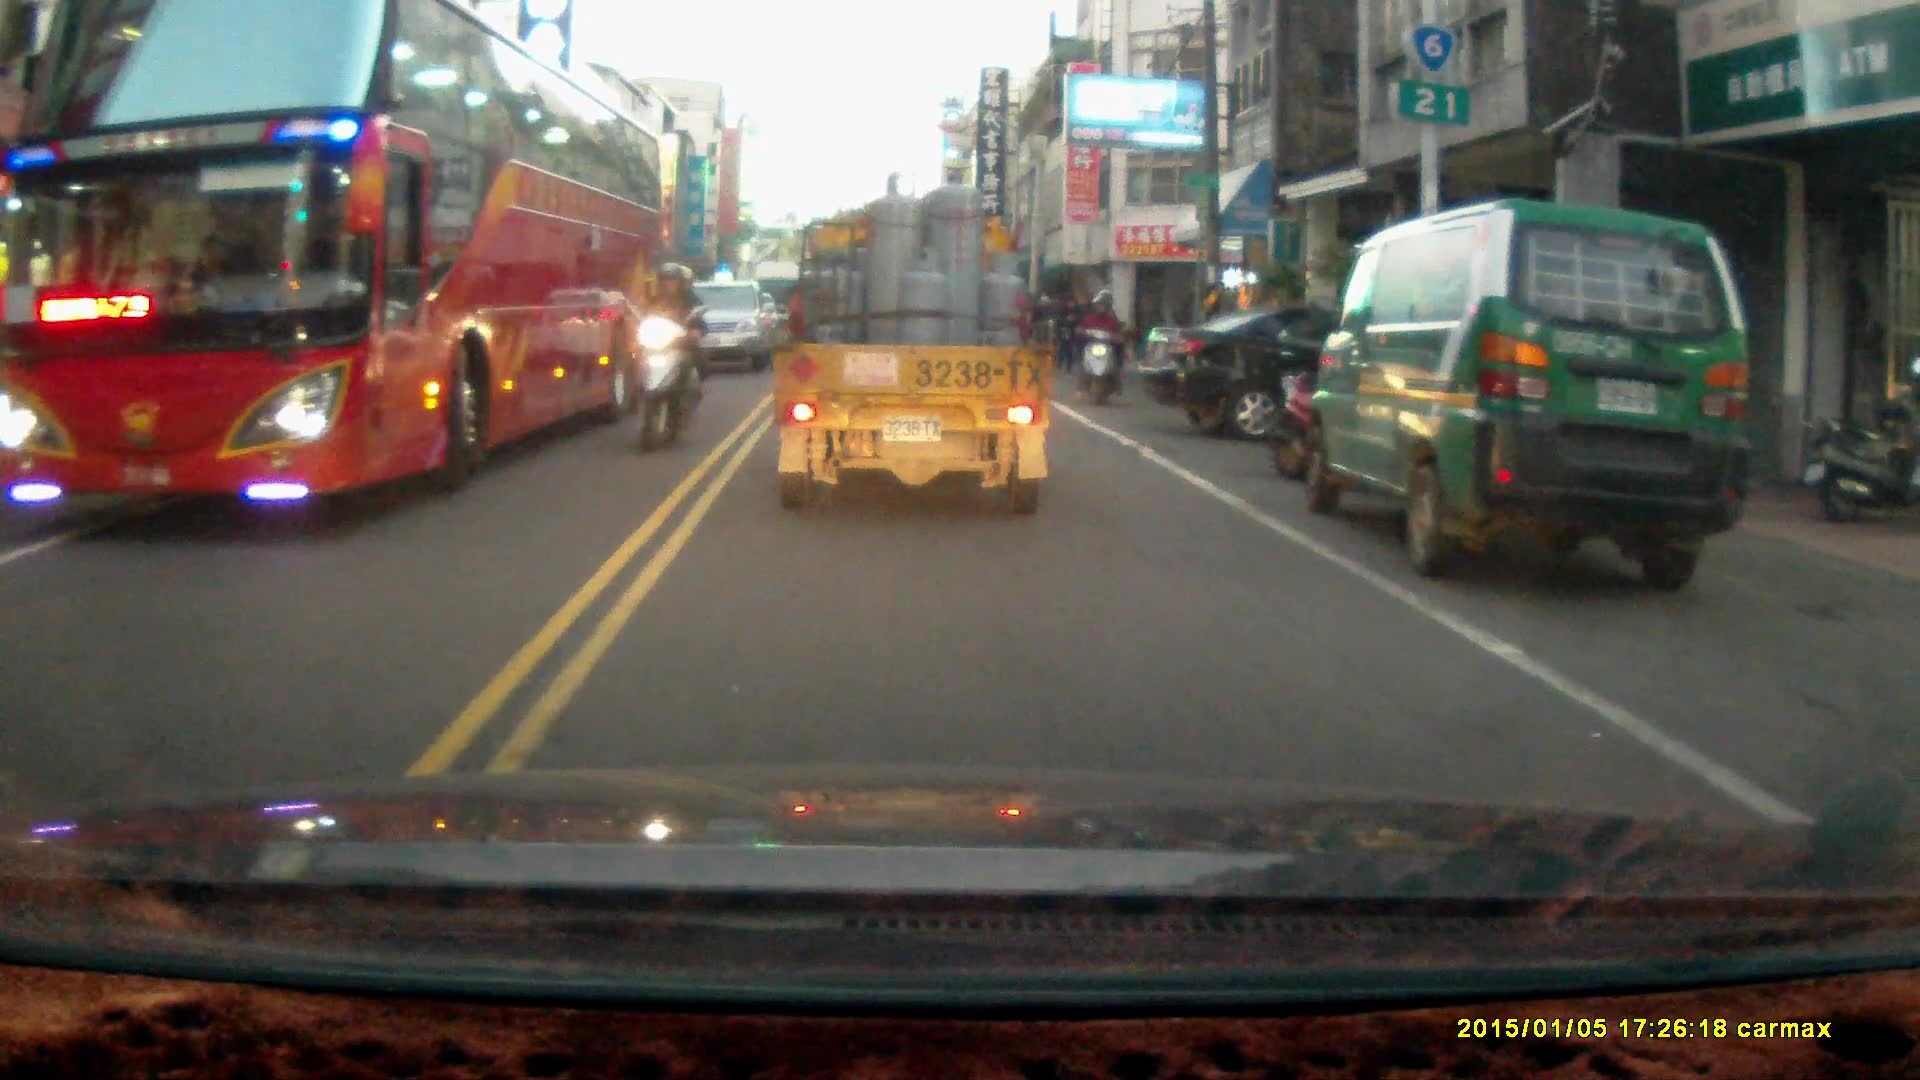rider: (625, 258, 706, 449), (1071, 286, 1126, 404)
vehicle: (8, 12, 661, 529), (1306, 192, 1753, 589), (771, 163, 1057, 518), (1149, 299, 1391, 444), (672, 277, 782, 378)
